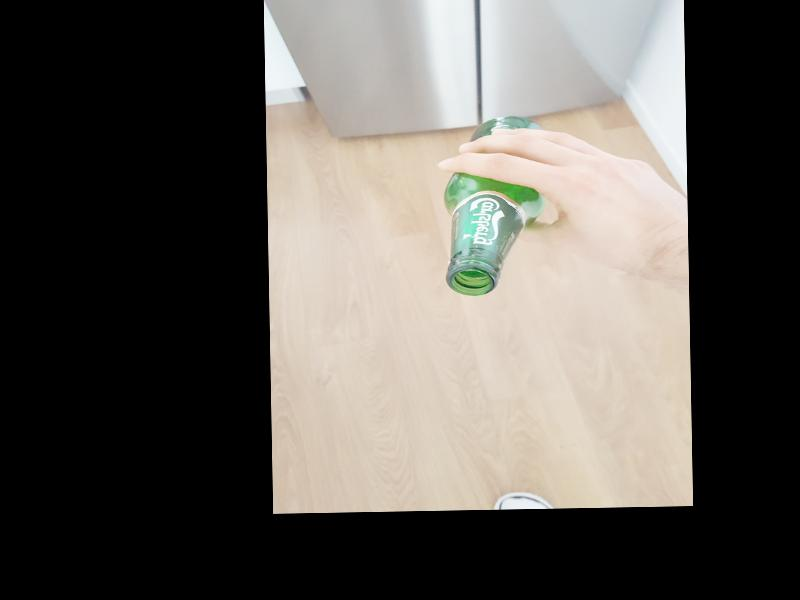Beer: (443, 116, 546, 296)
